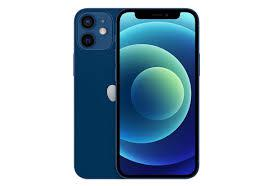Smartphone: (120, 6, 203, 181), (74, 9, 121, 185)
